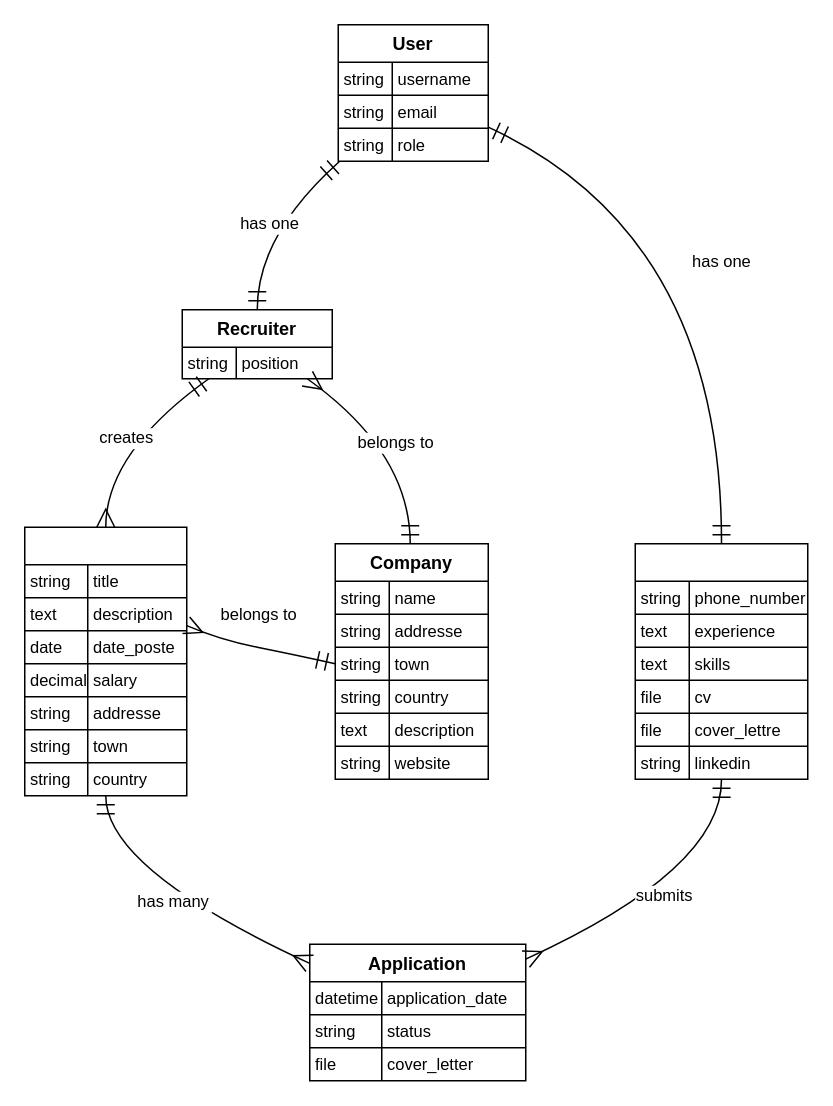
The diagram is 833 pixels wide and 1106 high, and some of its shapes have lost their labels. Here are the shapes that lost their labels. From the top down, the box of each, then its label:
(23, 526, 187, 796): JobOffer
(634, 542, 808, 779): Candidate
